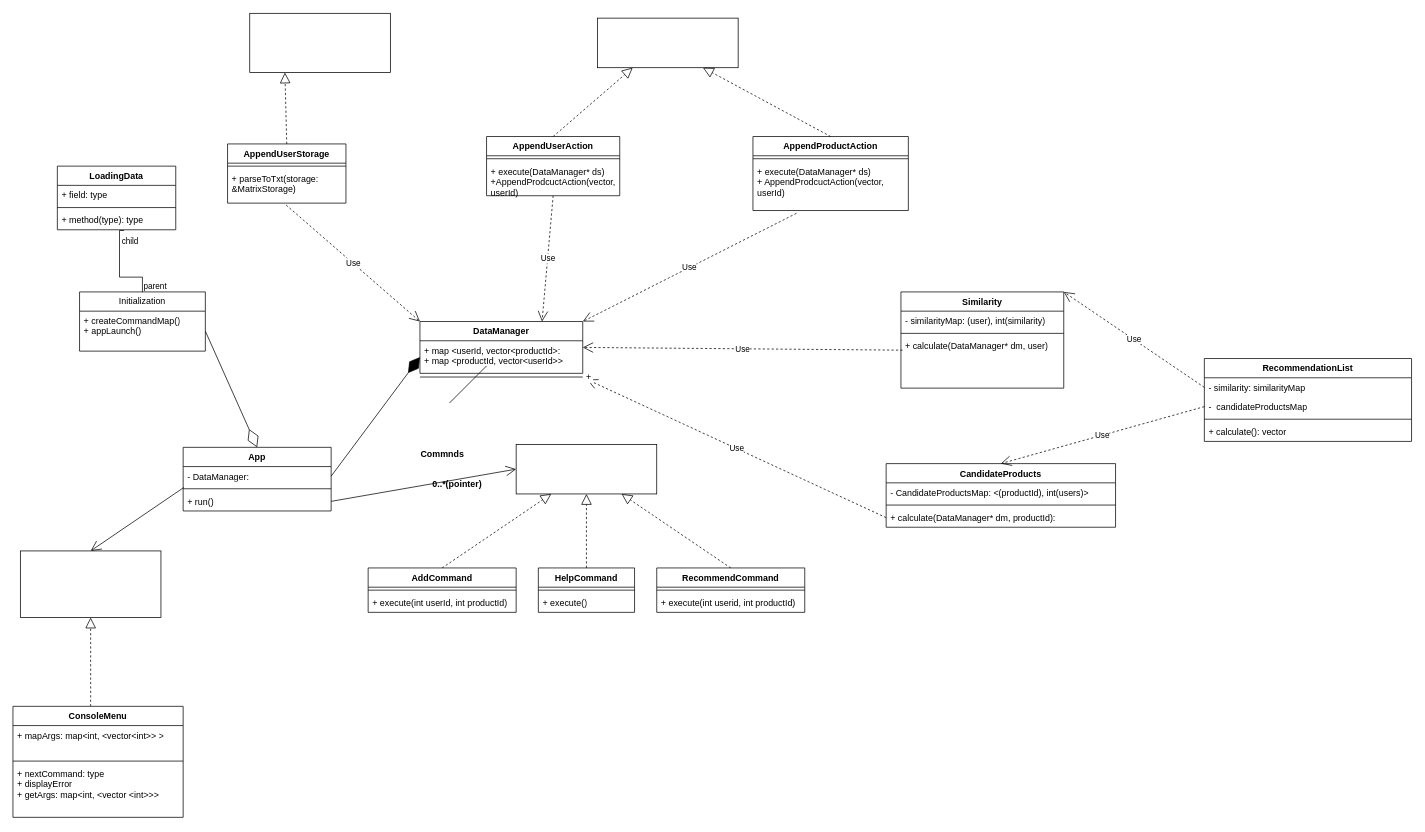
This 1425x832 diagram has some shape labels left out. The centre of each missing label's shape, as x and y in pixels:
"<<Interface>> ICommand + execute()" belongs at (586,469).
"<<Interface>> IDataAction + execute()" belongs at (667,42).
"<<Interface>> IDataStorage + parseToTxt()" belongs at (319,43).
"<<Interface>> IMenu + nextCommand(): + displayError():" belongs at (90,584).
